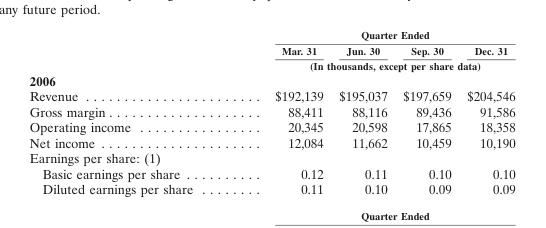table: (28, 28, 514, 196)
table column: (28, 28, 233, 196), (233, 28, 330, 196), (330, 28, 394, 196), (394, 28, 458, 196), (458, 28, 514, 196)
table column header: (28, 28, 514, 72)
table projected row header: (28, 72, 514, 87), (28, 150, 514, 165)
table row: (28, 87, 514, 103), (28, 103, 514, 119), (28, 134, 514, 150), (28, 165, 514, 181), (28, 42, 514, 57), (28, 57, 514, 72), (28, 72, 514, 87), (28, 119, 514, 134), (28, 150, 514, 165), (28, 181, 514, 196), (28, 28, 514, 42)
table spanning cell: (233, 57, 514, 72), (233, 28, 514, 42)
